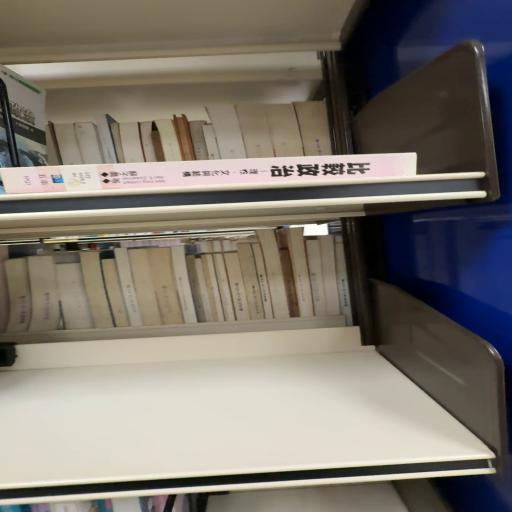flat: (0, 153, 416, 198)
